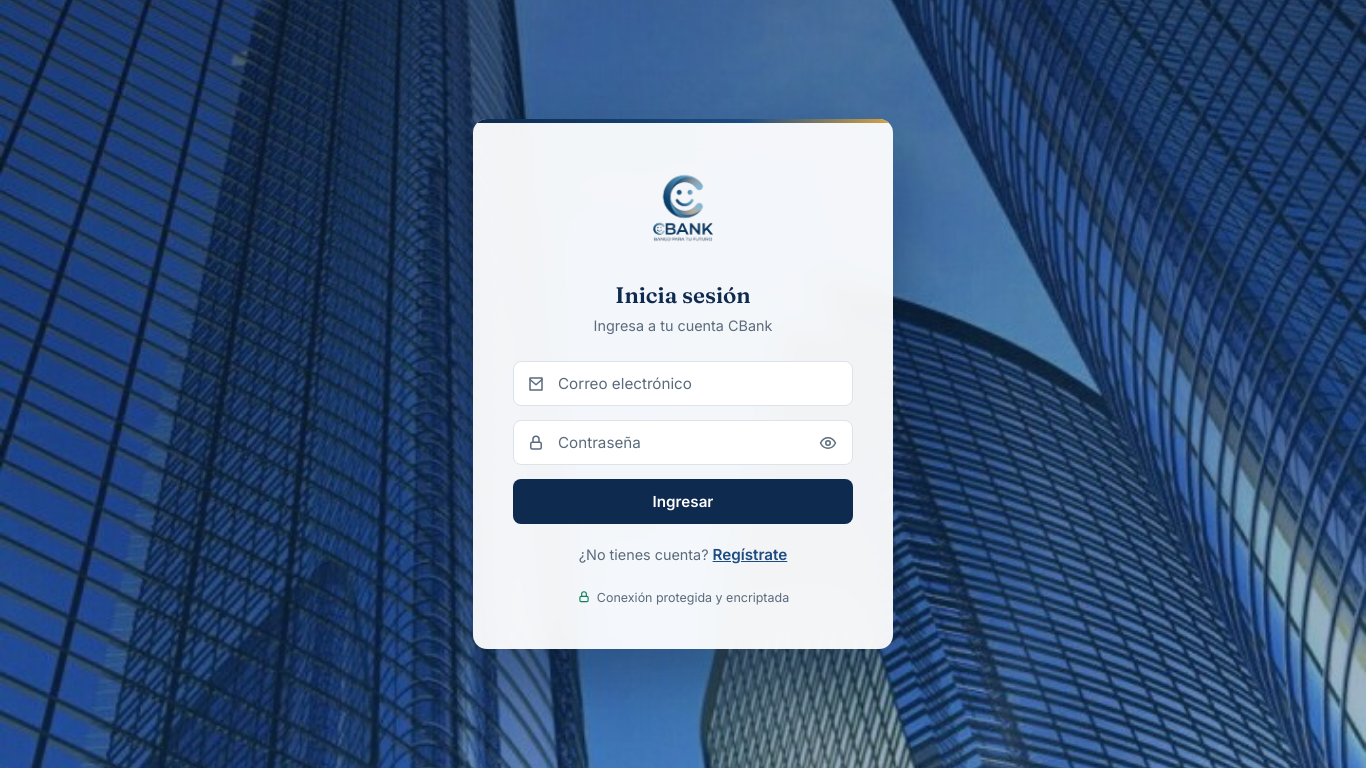
Login › muestra un mensaje de error cuando las credenciales son invalidas
The width and height of the screenshot is (1366, 768).
Step 1. Type "cris@inacap.com" into the field with placeholder "Correo electrónico" → (683, 384), box [513,361,853,406]
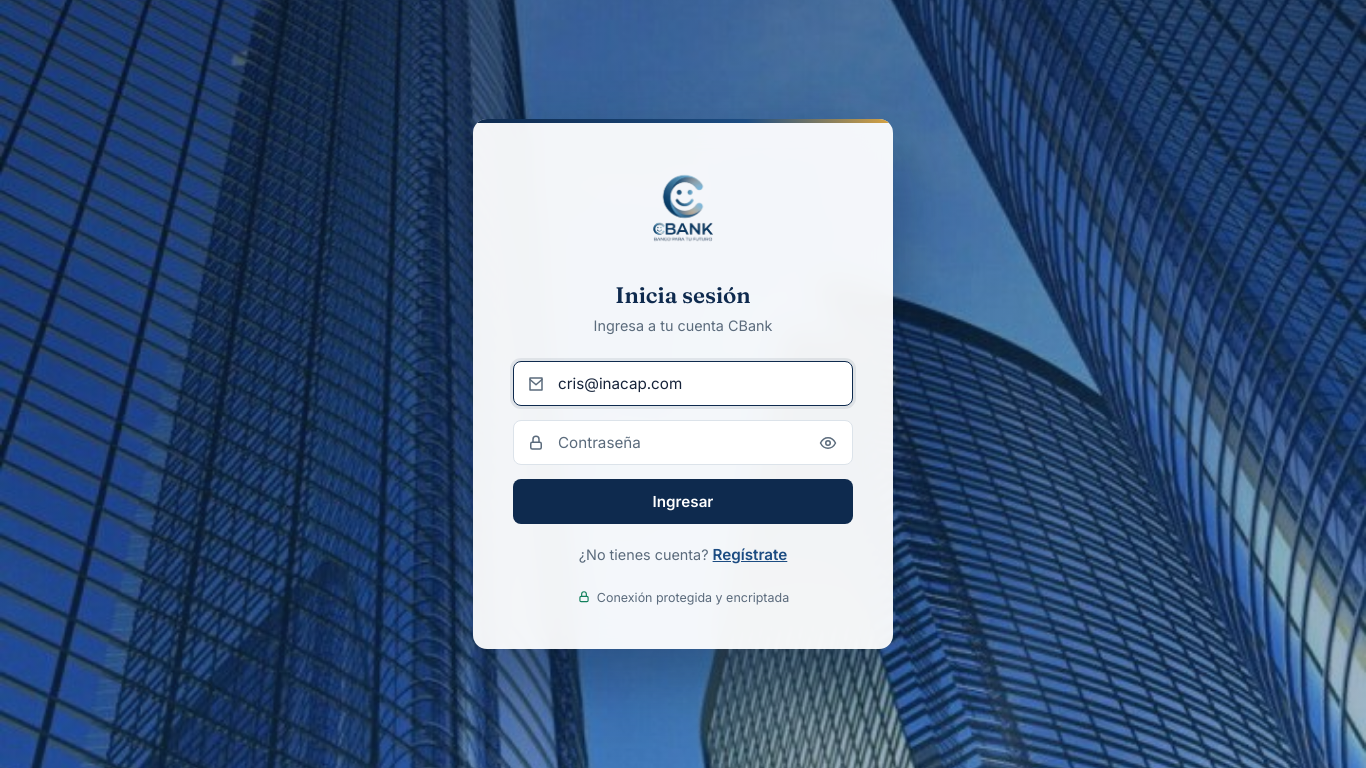
Step 2. Type "clave-incorrecta" into the password field with placeholder "Contraseña" → (683, 442), box [513,420,853,465]
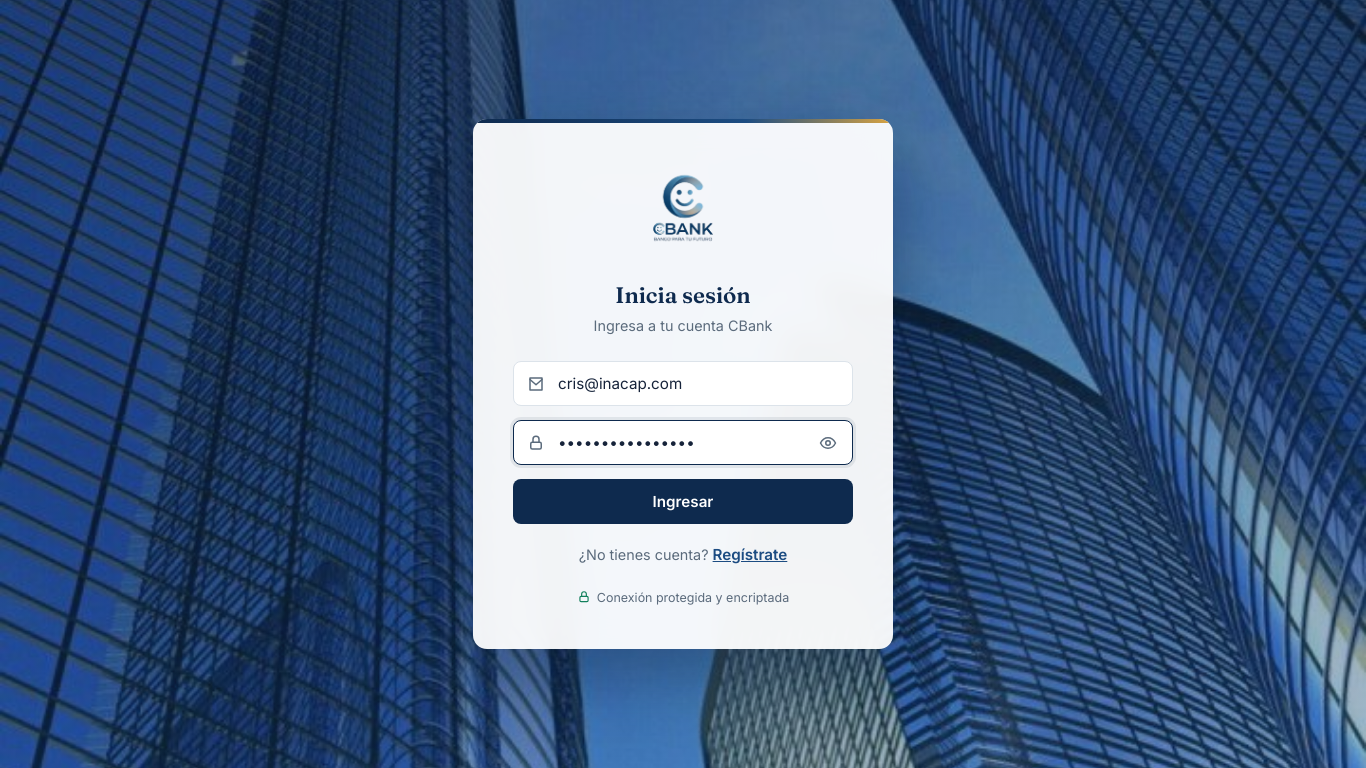
Step 3. Click the button "Ingresar" → (683, 502), box [513,479,853,524]
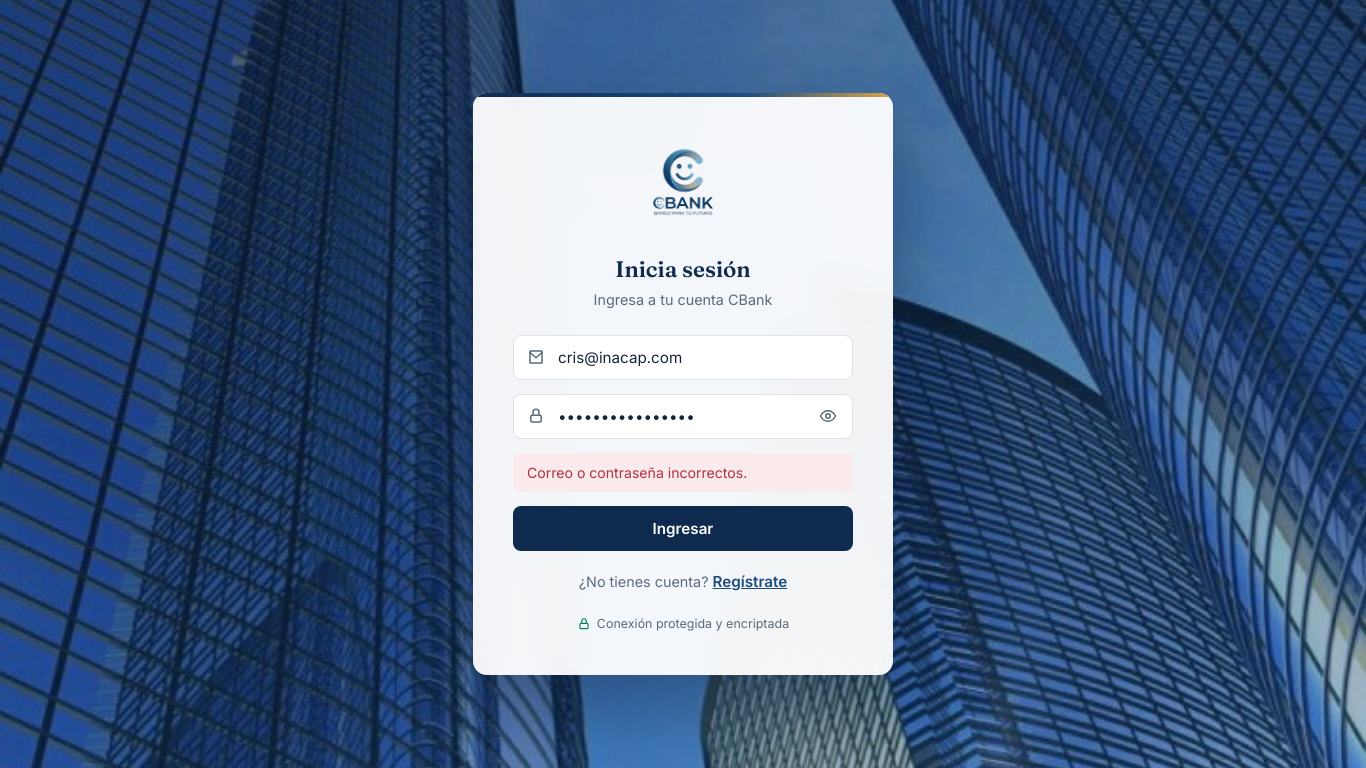
expect the text "Correo o contraseña incorrectos." is shown: met, box [513,452,853,492]
